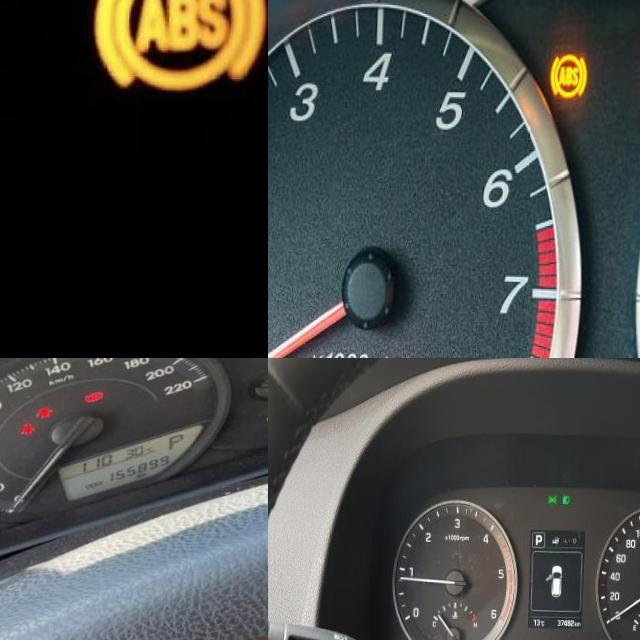FrontFogLight: (563, 492, 571, 502)
SideLamp: (548, 492, 558, 502)
